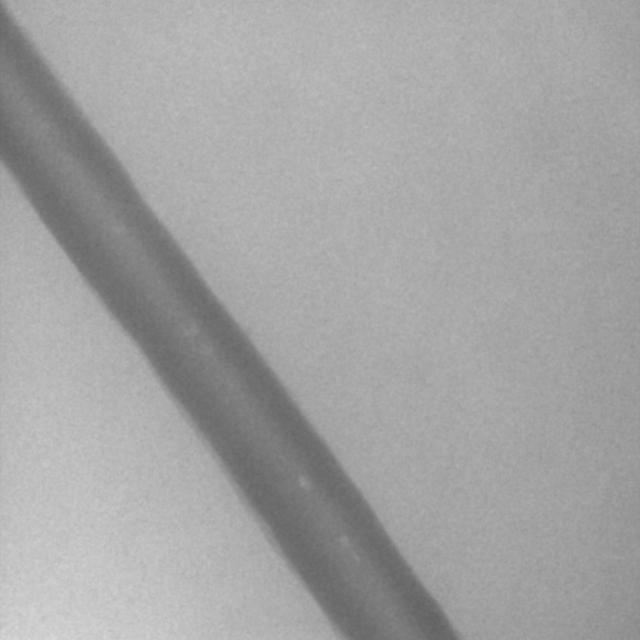air hole: (296, 474, 310, 490)
